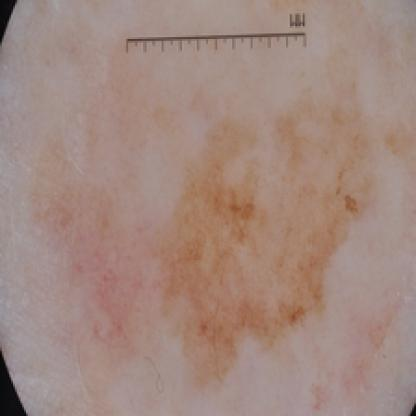malignant: (152, 113, 366, 364)
